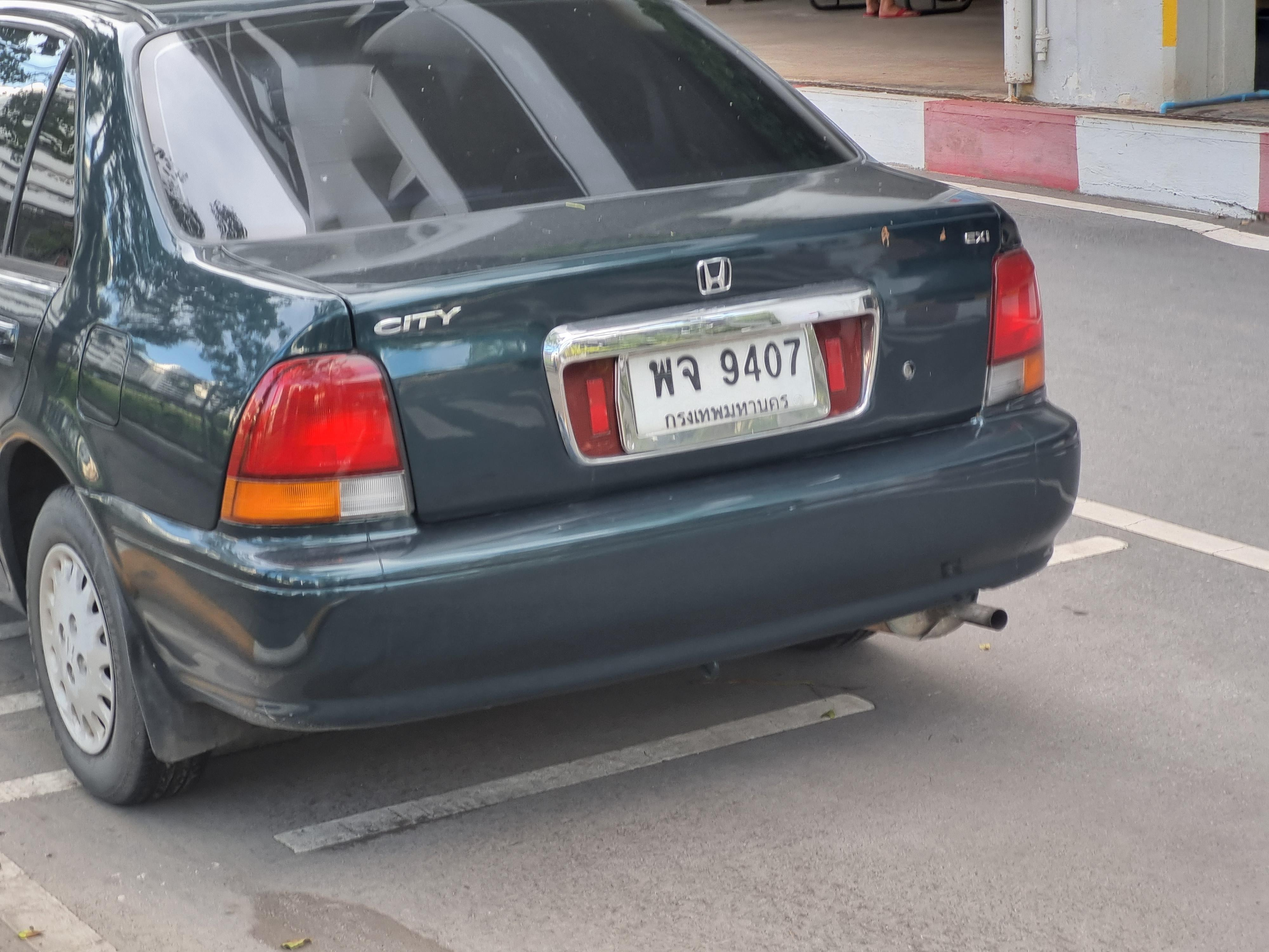license-plate: (611, 321, 833, 462)
